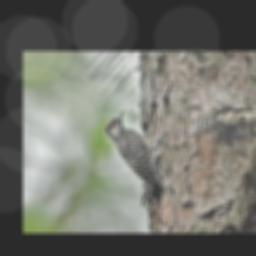Woodpecker: (105, 106, 166, 202)
